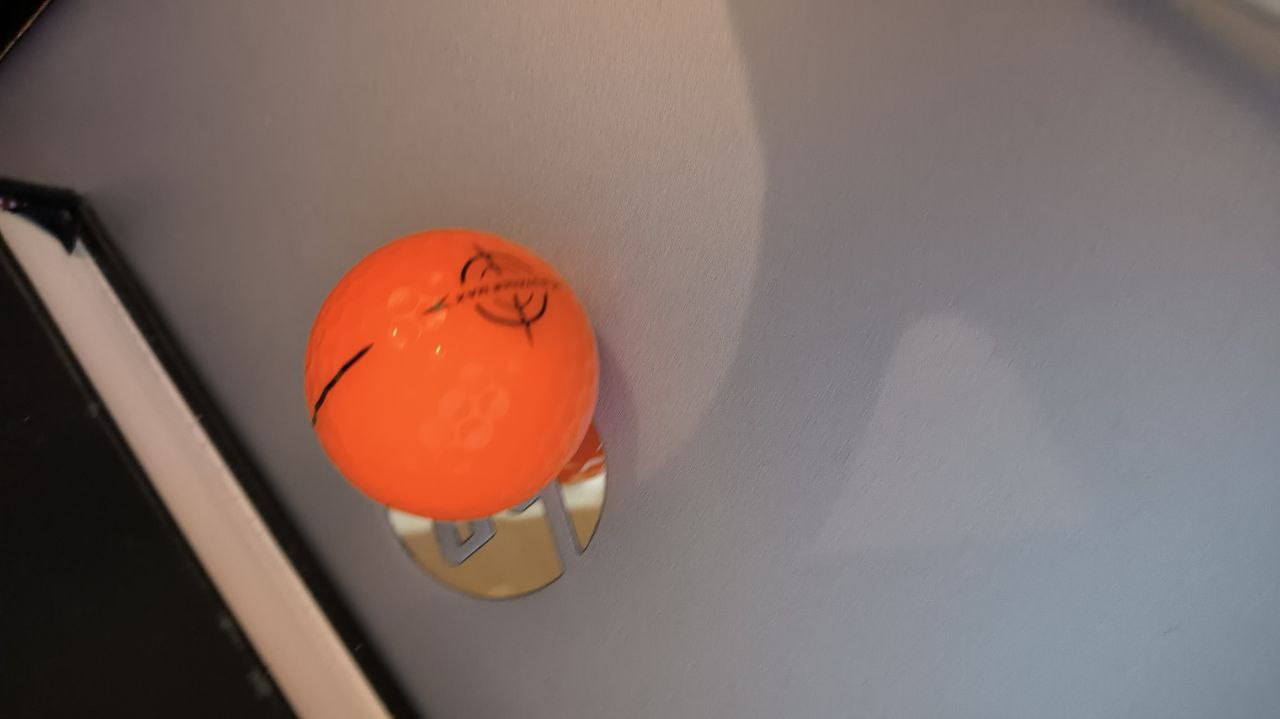orange_ball: (306, 228, 599, 520)
